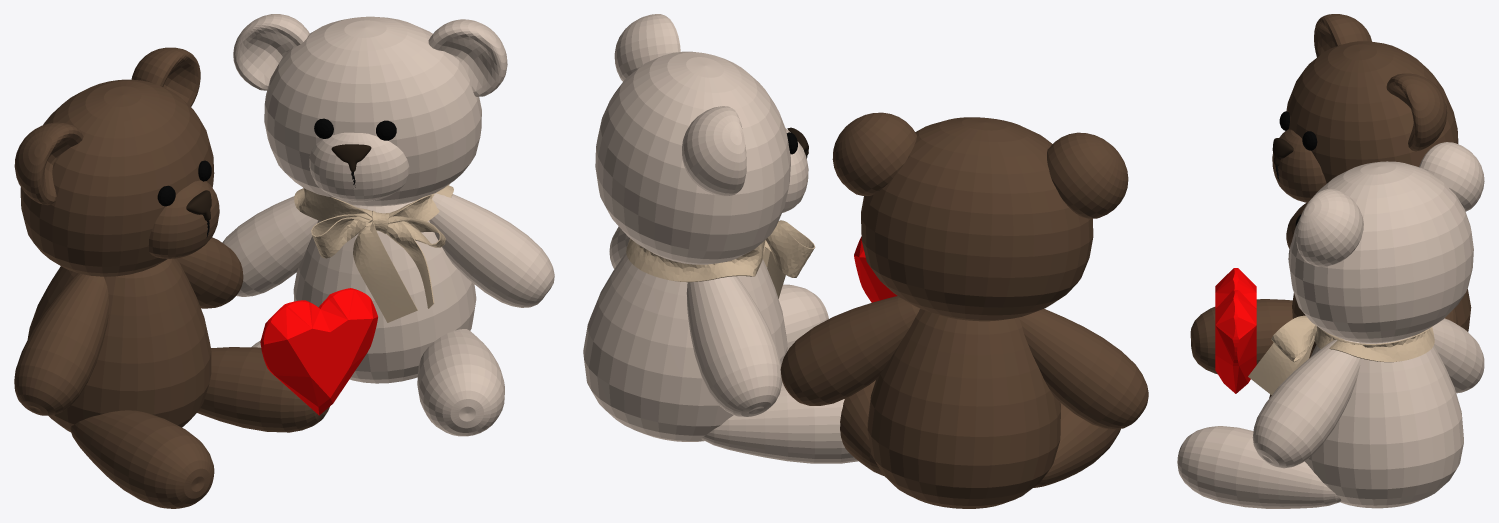
The model's file is teddy_bears_withcrystalheart_edited.glb.
3 renders of one model, left to right at view 1: azimuth 30°, elevation 25°; view 2: azimuth 150°, elevation 25°; view 3: azimuth 270°, elevation 25°, orthographic. The views are drawn at different scales.
Size of the model in its own units: 5.39 by 3.65 by 2.99.
